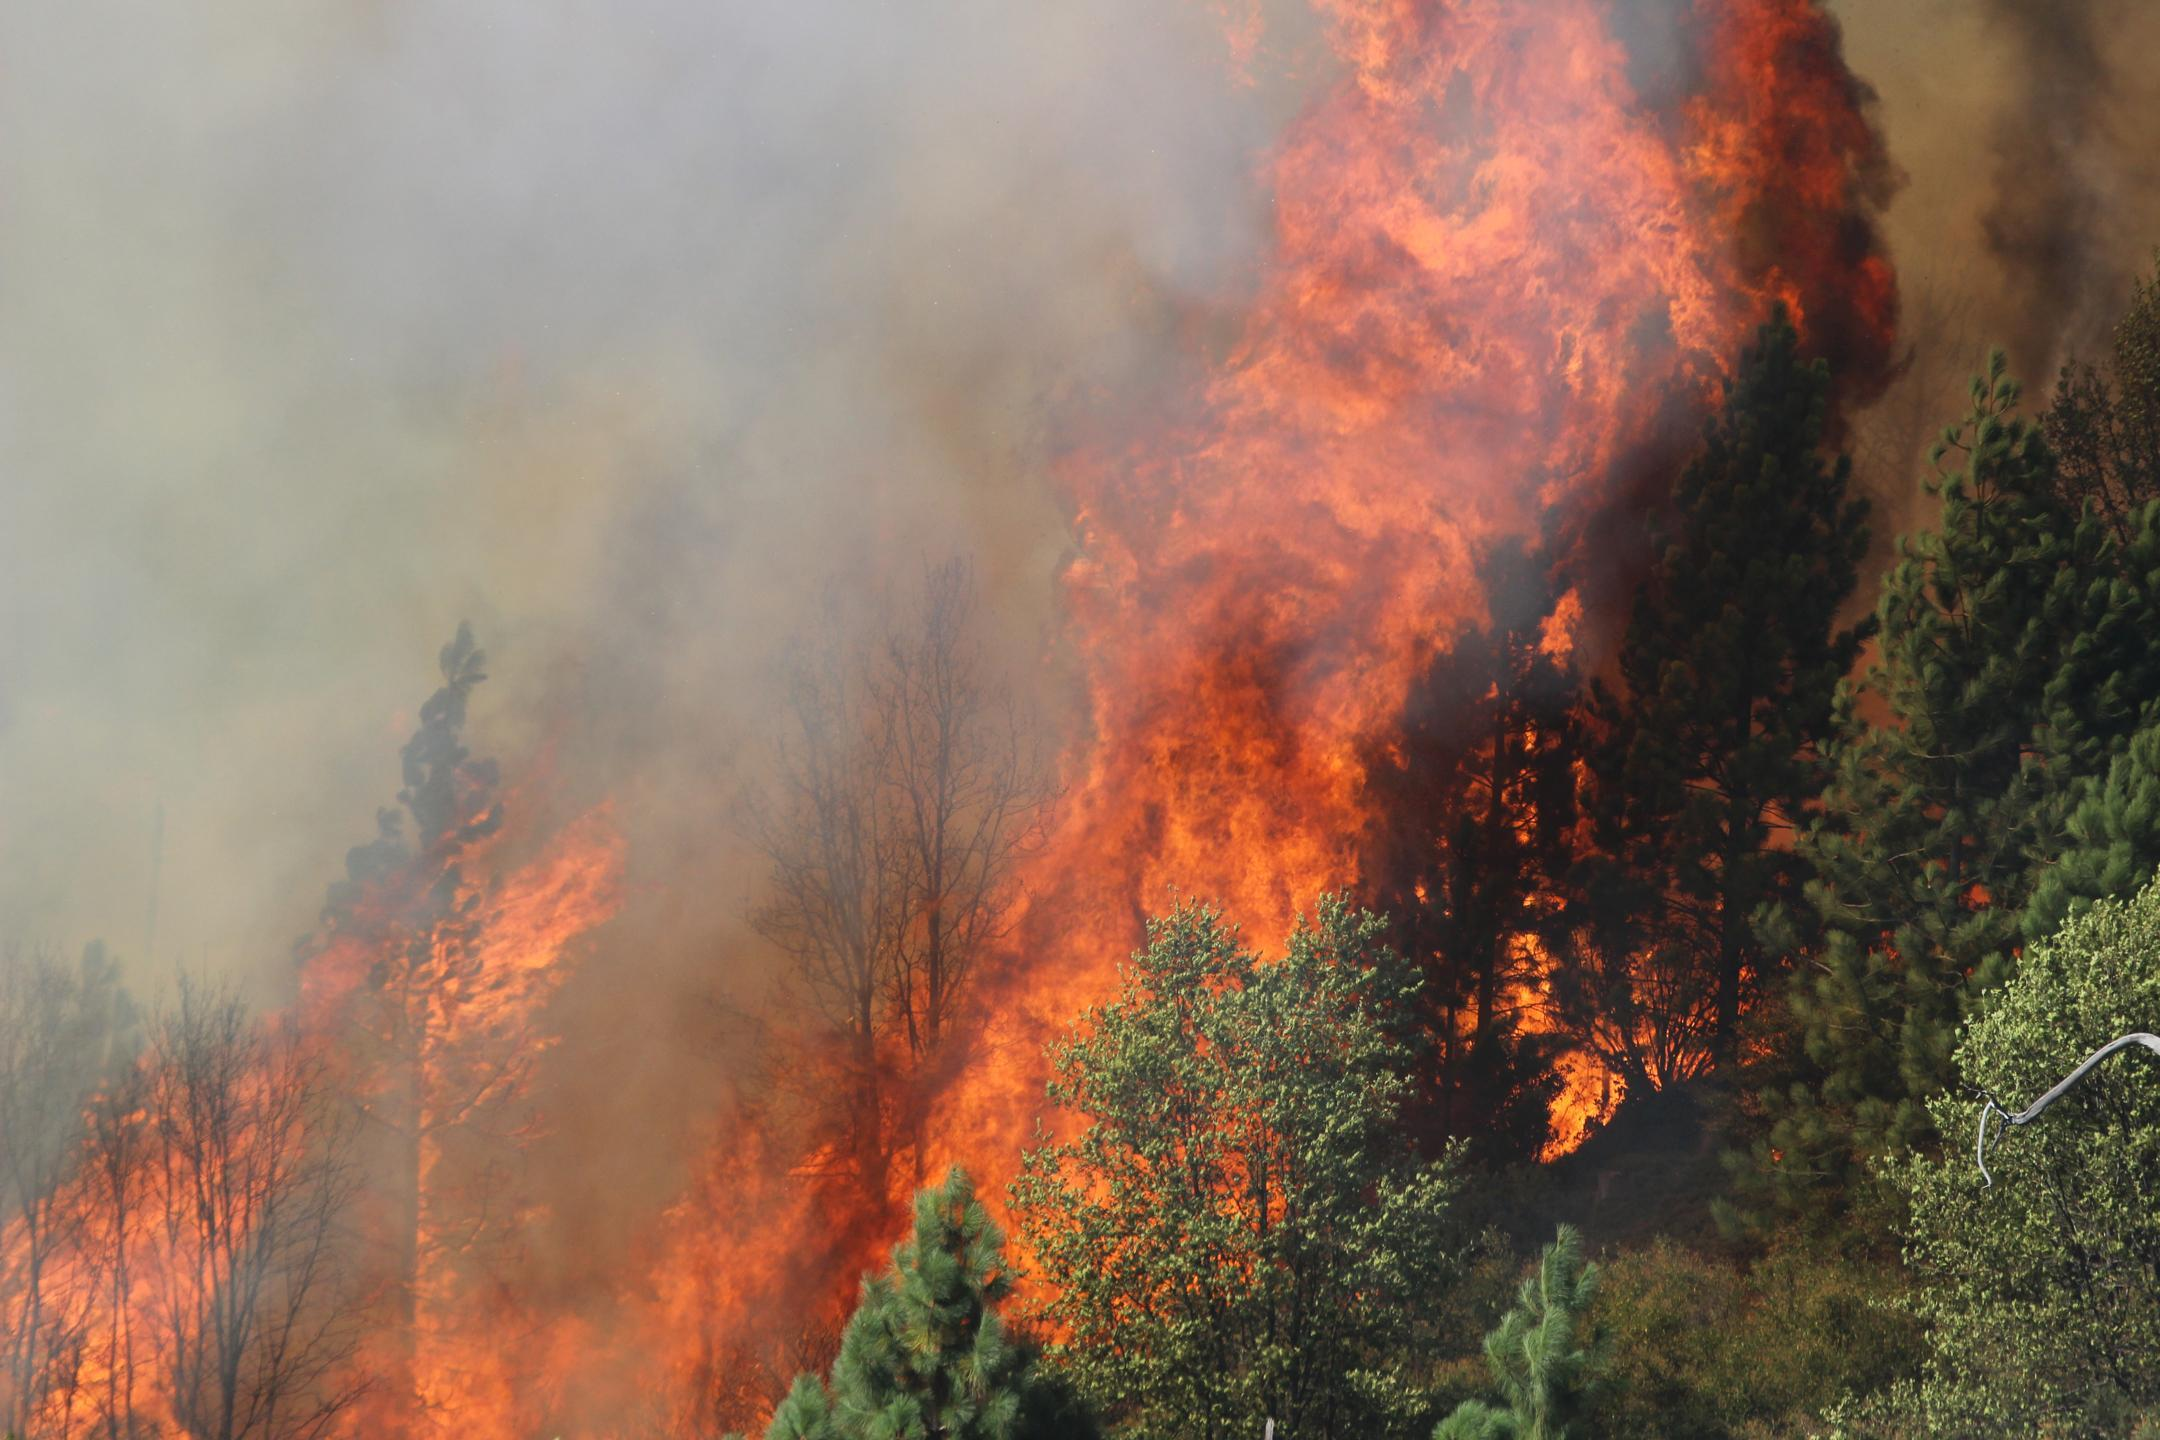fire: (1374, 80, 1687, 517), (1176, 612, 1392, 926)
smoke: (129, 48, 1017, 723), (51, 742, 341, 974), (646, 768, 844, 1030)
